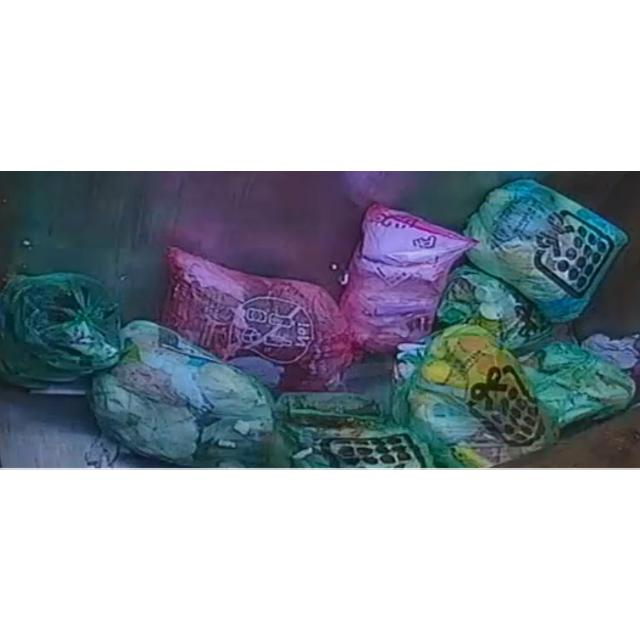general_trashbag: (89, 320, 274, 466), (394, 324, 554, 467), (340, 204, 474, 352), (0, 272, 121, 387), (261, 391, 432, 468), (438, 265, 551, 355), (519, 341, 635, 427)
other_trashbag: (161, 246, 354, 390)
